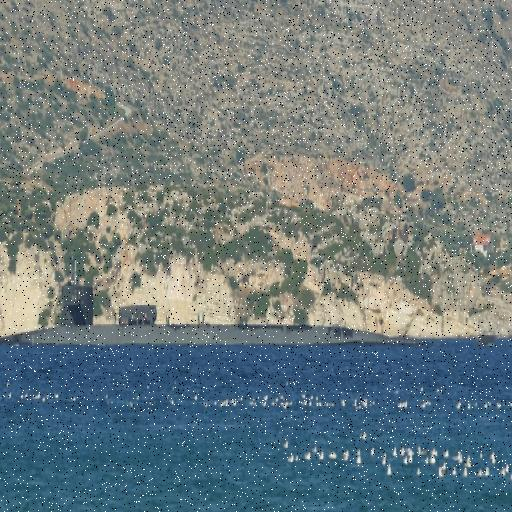submarine: (1, 274, 418, 346)
